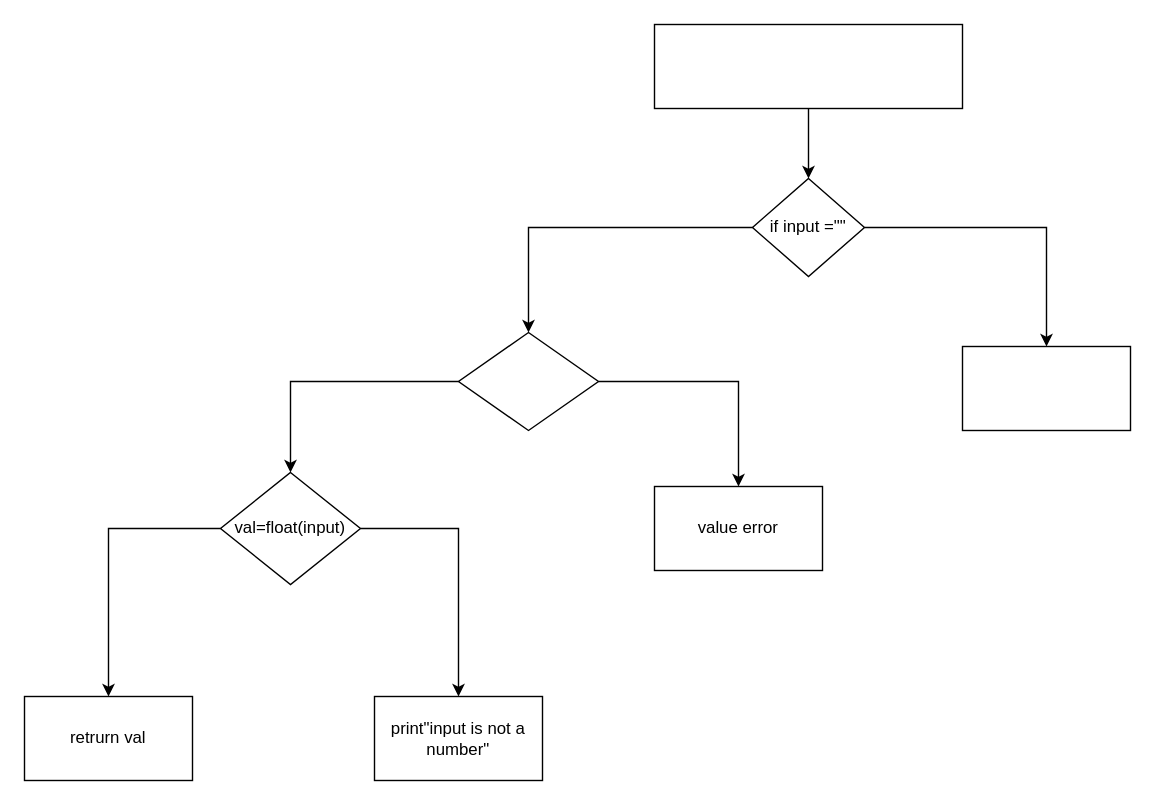
Some shapes in this 1155 by 805 pixel diagram are drawn without their labels. The box of each missing label's shape, as (x1, y1, x2, y2) in pixels:
check user input: (653, 23, 962, 108)
print"input cant be empty": (961, 345, 1130, 430)
val=int(empty): (457, 331, 598, 430)
